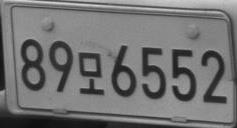2: (200, 49, 227, 103)
5: (171, 48, 197, 102), (141, 46, 167, 99)
6: (110, 43, 137, 98)
8: (19, 38, 46, 92)
9: (47, 39, 74, 93)
모: (78, 52, 104, 95)
